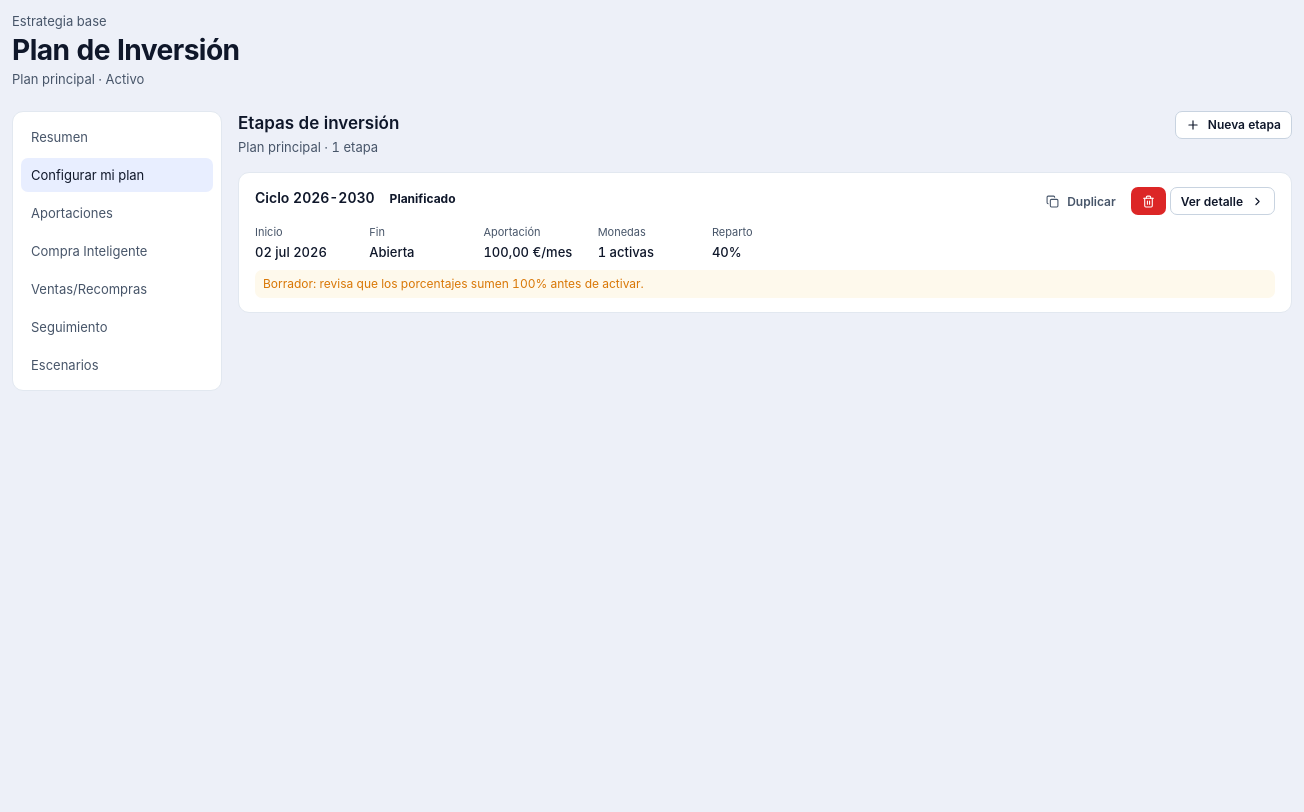
Scenario: PlanConfigurar — lista de etapas › valida campos obligatorios al crear etapa
Expected: the text "Ciclo 2026-2030" is shown, [255,188,375,209]
What coordinates should you click on to do the following:
click the button "Nueva etapa"
I would click on:
 (1233, 125)
Its box is [1175,111,1292,139].
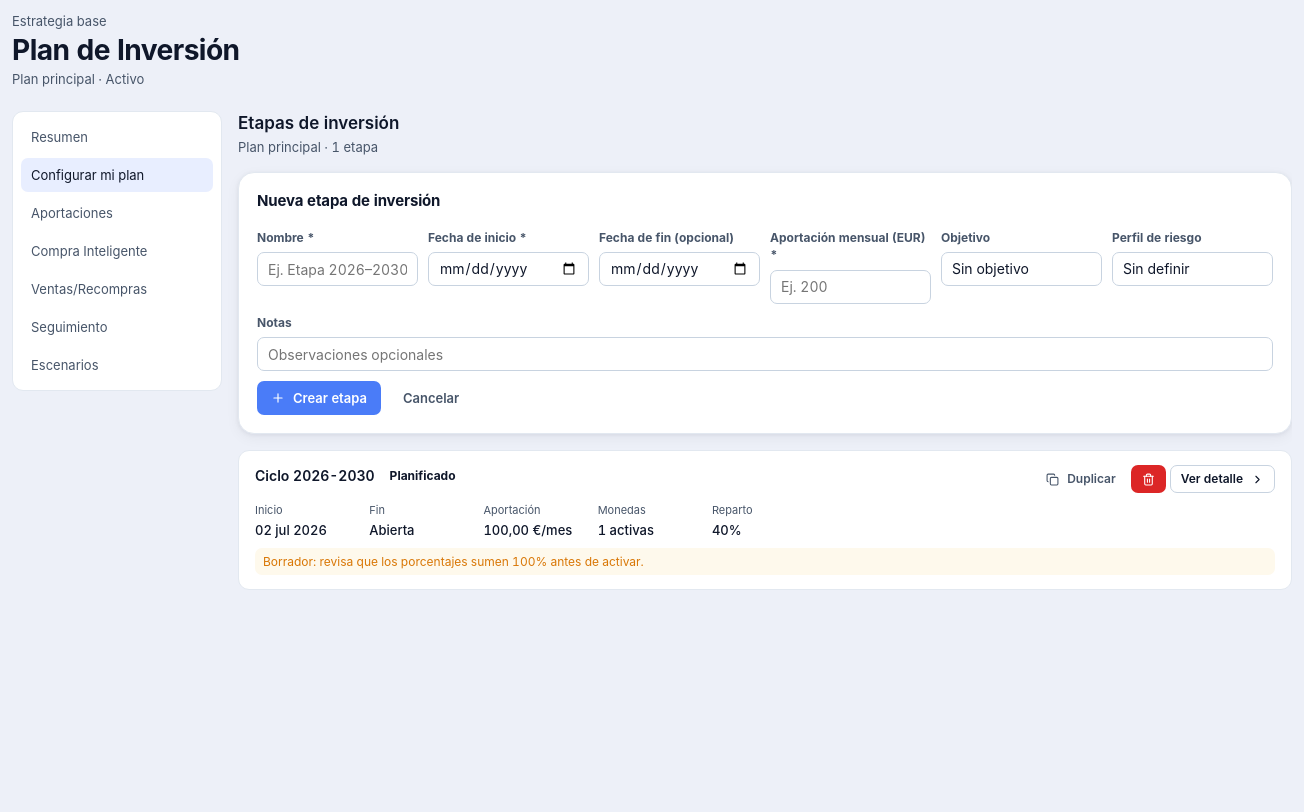
Note: Submit without filling fields
What coordinates should you click on to do the following:
click the button "Crear etapa"
I would click on:
 (319, 398)
Its box is [257,381,381,415].
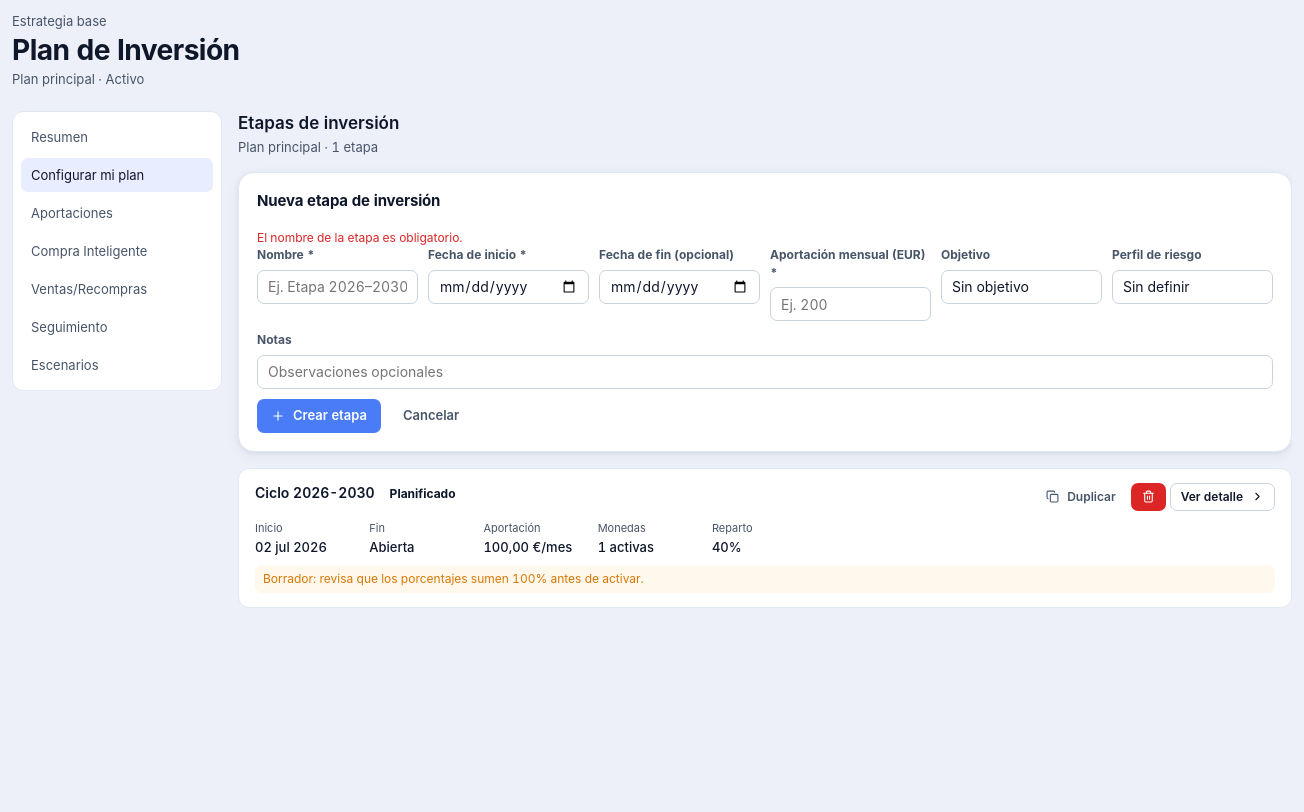
Expected: the text "El nombre de la etapa es obligatorio." is shown, [257,230,463,245]
